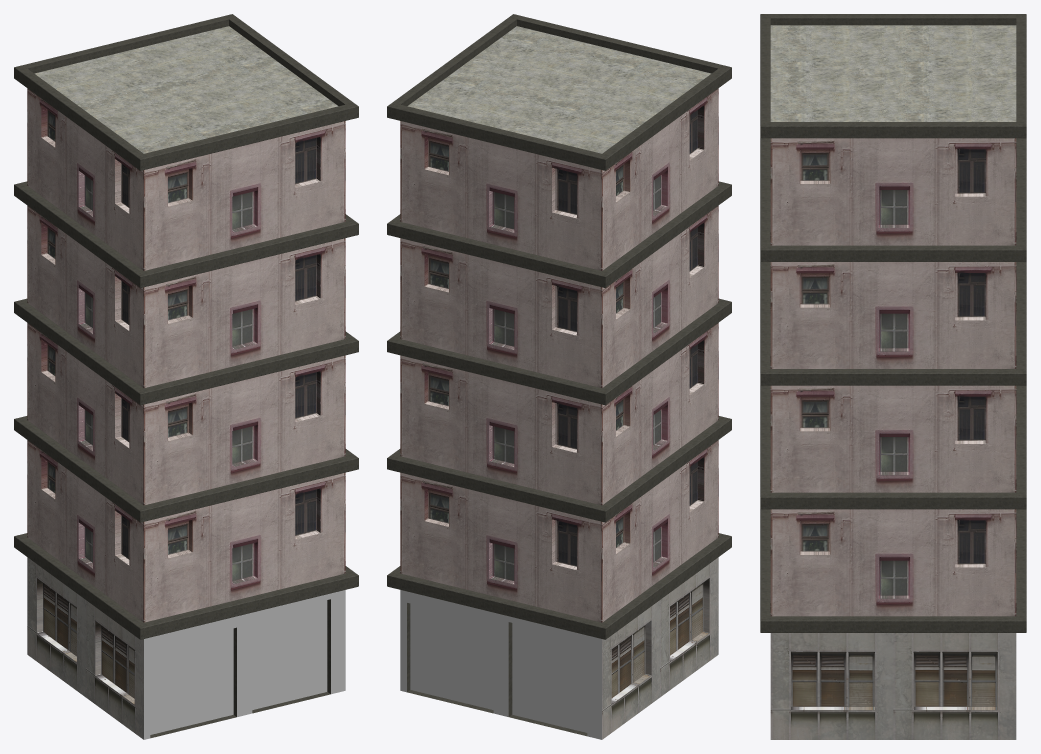
Rendered from CT_door_043.fbx.
3 views of the same model, side by side, from view 1: azimuth 30°, elevation 25°; view 2: azimuth 150°, elevation 25°; view 3: azimuth 270°, elevation 25° (orthographic). The views are drawn at different scales.
Visible parts, largest first — view 1: CT_door_043; view 2: CT_door_043; view 3: CT_door_043.
Part boxes in pixels (box(x1,y1,x2,y2)): CT_door_043: box(14, 14, 358, 739); CT_door_043: box(387, 14, 731, 739); CT_door_043: box(760, 14, 1026, 739).
Size of the model in its own units: 555 by 1422 by 555.
